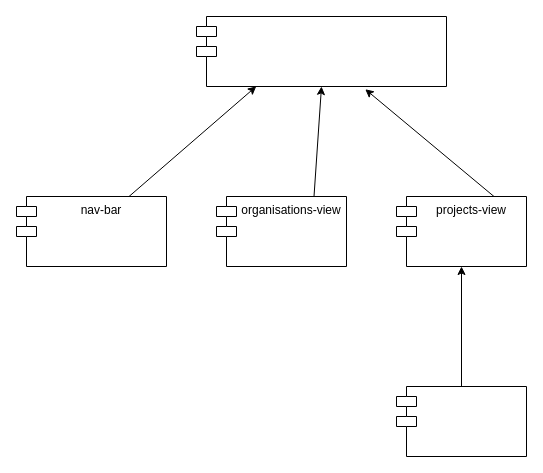
This 543x473 diagram has some shape labels left out. The centre of each missing label's shape, as x and y in pixels:
app-root: point (321, 51)
tasks: point (461, 421)
